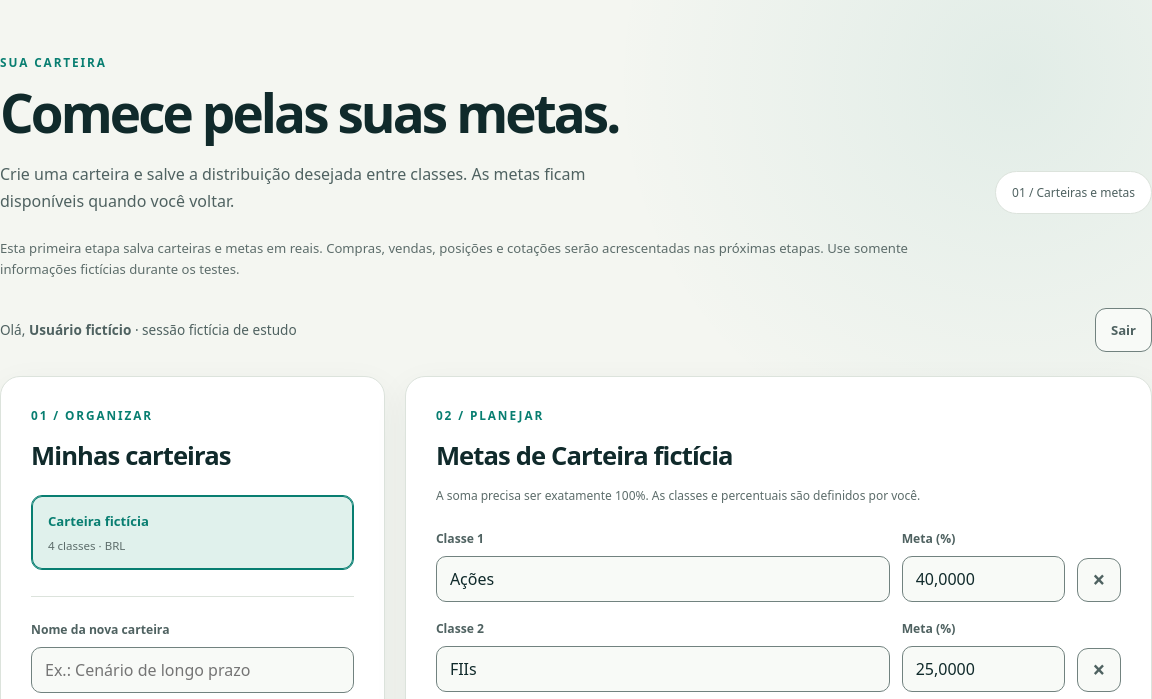
Test: SavedPortfolio › waits for an in-flight save instead of aborting it to recheck session
Step 1. Replace the text in the field named "Meta da classe 1" with "39" → (983, 578), box [902,556,1065,602]
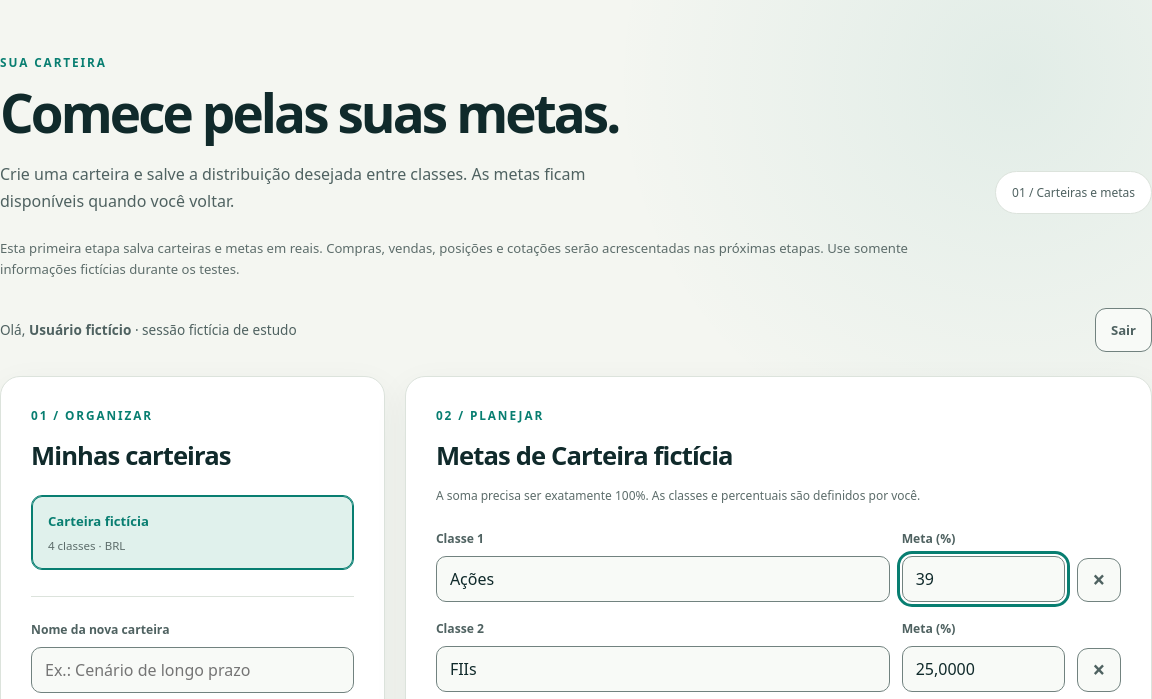
Step 2. Replace the text in the field named "Meta da classe 2" with "26" → (983, 668), box [902,646,1065,692]
(page scrolled)
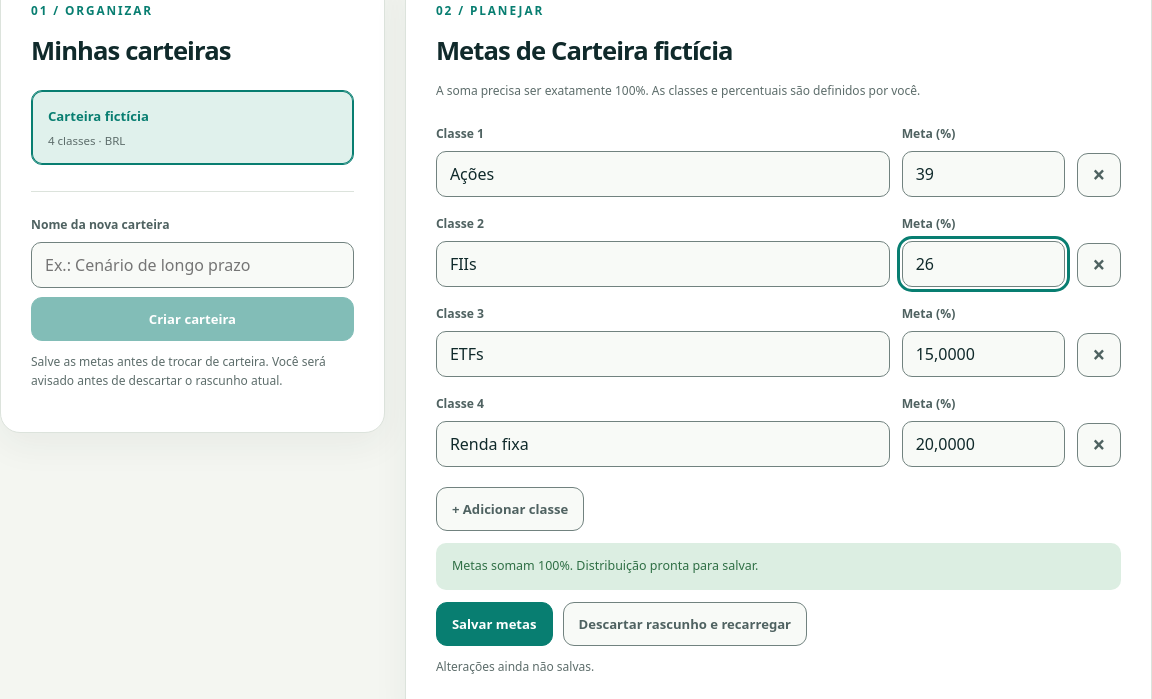
Step 3. Click the button "Salvar metas" → (494, 624), box [436,602,552,646]
(page scrolled)
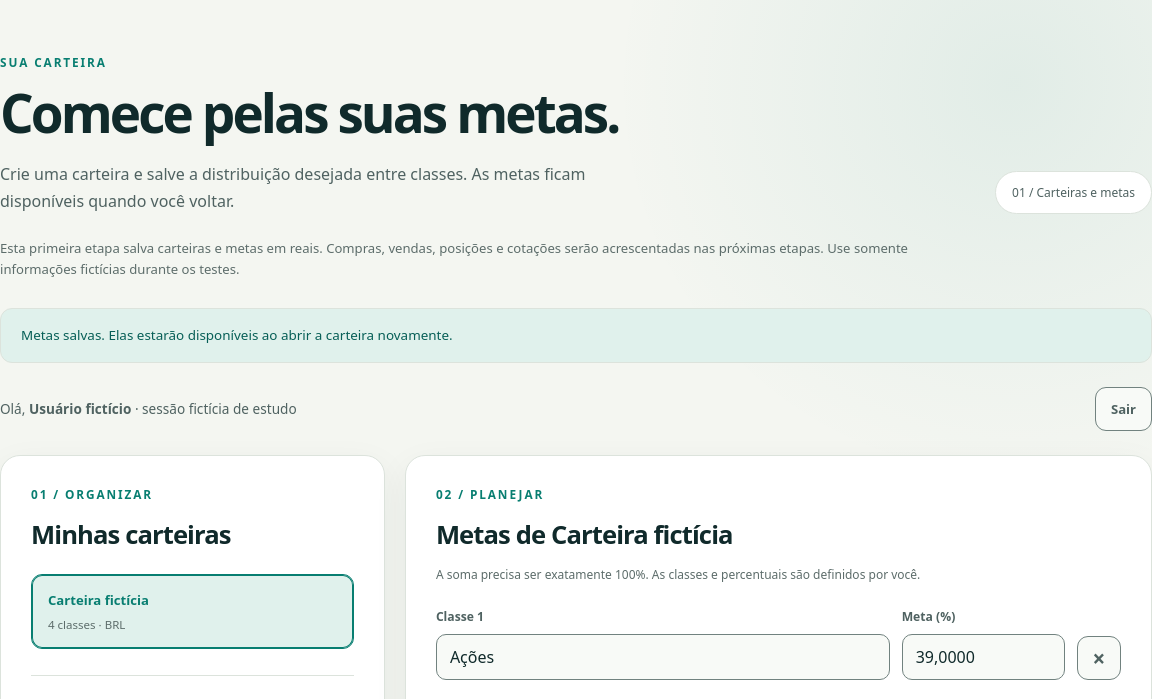
Expected: the field named "Meta da classe 1" holds "39,0000", [902,634,1065,680]
Expected: the text "Metas salvas. Elas estarão disponíveis ao abrir a carteira novamente." is shown, [0,308,1151,363]
